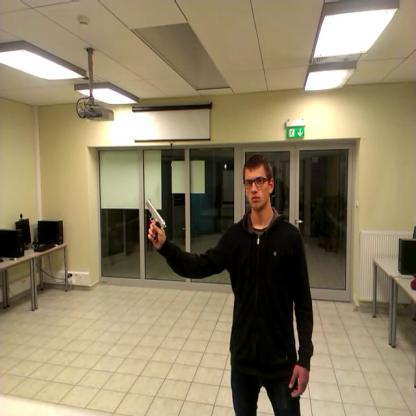Pistol: (140, 188, 169, 249)
